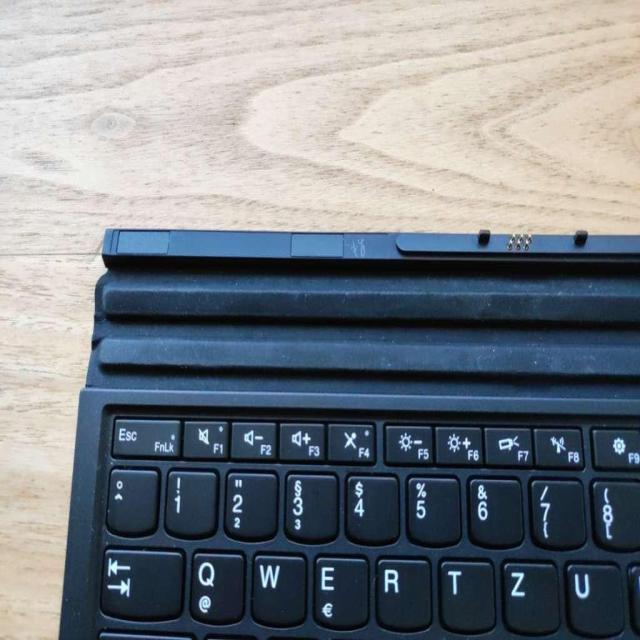1: (165, 468, 217, 536)
2: (223, 470, 277, 540)
3: (282, 473, 337, 542)
4: (345, 474, 400, 544)
5: (405, 474, 461, 546)
6: (466, 476, 524, 547)
7: (528, 477, 586, 548)
8: (592, 478, 639, 549)
caret: (106, 467, 157, 534)
e: (311, 555, 369, 628)
keyboard: (86, 403, 639, 637)
q: (189, 552, 247, 627)
r: (374, 556, 432, 630)
t: (438, 559, 496, 633)
tab: (99, 546, 184, 624)
u: (564, 561, 624, 636)
w: (250, 551, 306, 626)
z: (502, 560, 560, 634)
